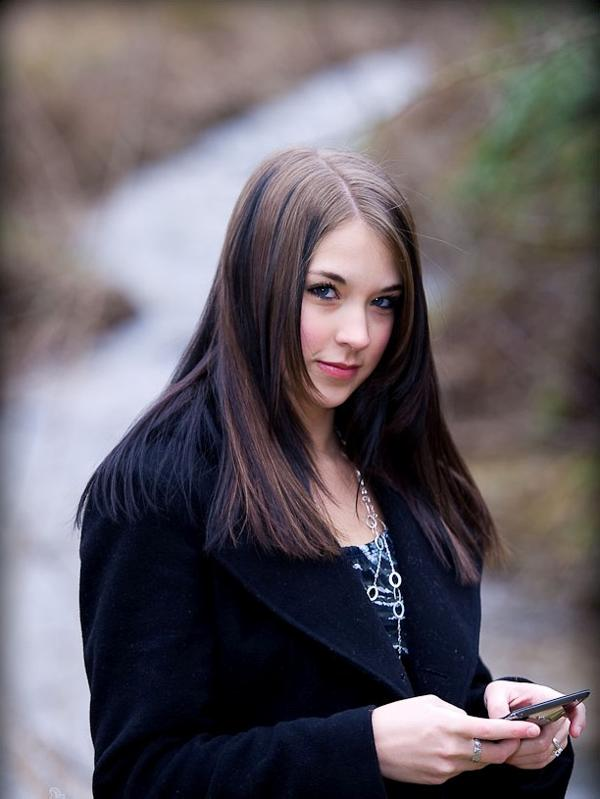person: (78, 146, 589, 799)
